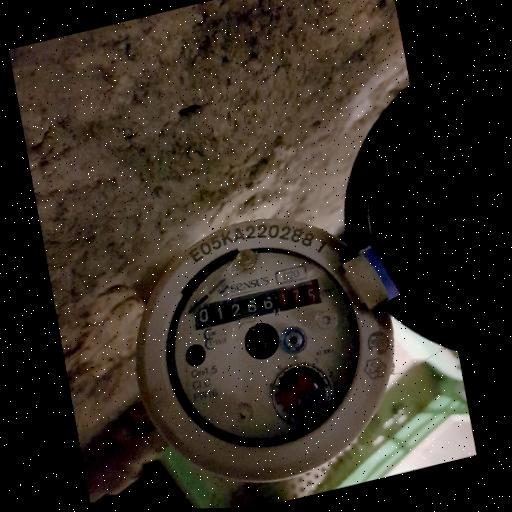0: (194, 305, 213, 326)
1: (276, 286, 292, 310), (214, 302, 228, 323)
2: (227, 298, 245, 319)
5: (302, 281, 319, 305)
6: (243, 294, 261, 315), (260, 291, 277, 312)
7: (289, 284, 304, 306)
border_water_meter_number: (189, 275, 323, 332)
